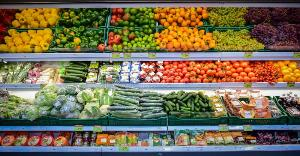bell_pepper: (0, 28, 50, 52), (52, 29, 104, 51), (12, 9, 58, 29), (59, 8, 109, 26), (0, 9, 14, 42)
cucumber: (112, 84, 164, 120), (167, 86, 213, 118)
grape: (254, 22, 300, 50), (214, 29, 262, 51), (246, 9, 300, 28), (209, 8, 247, 26)
lime: (118, 34, 156, 52), (135, 3, 157, 21)
persimmon: (160, 4, 210, 28), (157, 29, 207, 51)
pomegranate: (101, 6, 123, 50)
tomato: (191, 58, 229, 82), (254, 58, 280, 84), (164, 60, 189, 82), (140, 61, 164, 83), (231, 56, 252, 81)
zucchini: (61, 62, 89, 82)
